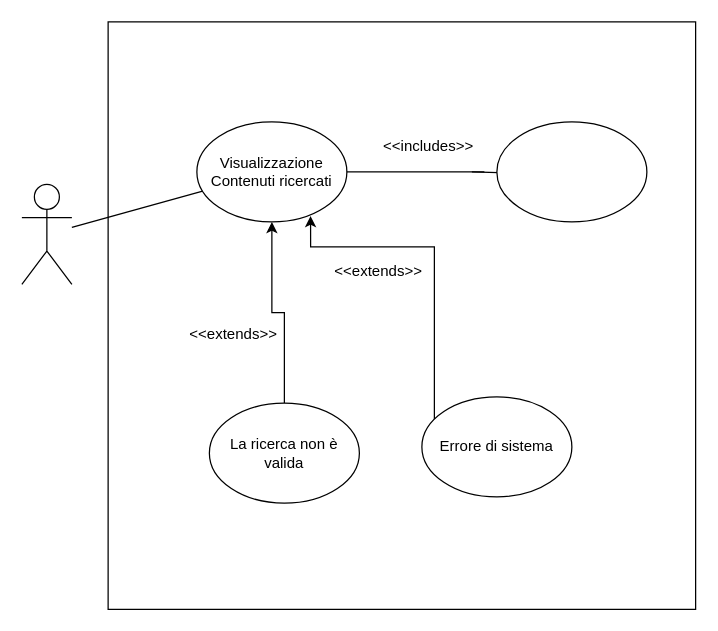
The diagram is 718 pixels wide and 631 high, and some of its shapes have lost their labels. The box of each missing label's shape, as (x1, y1, x2, y2) in pixels:
Compilazione form ricerca: (496, 121, 647, 222)
Utente: (21, 183, 72, 284)
